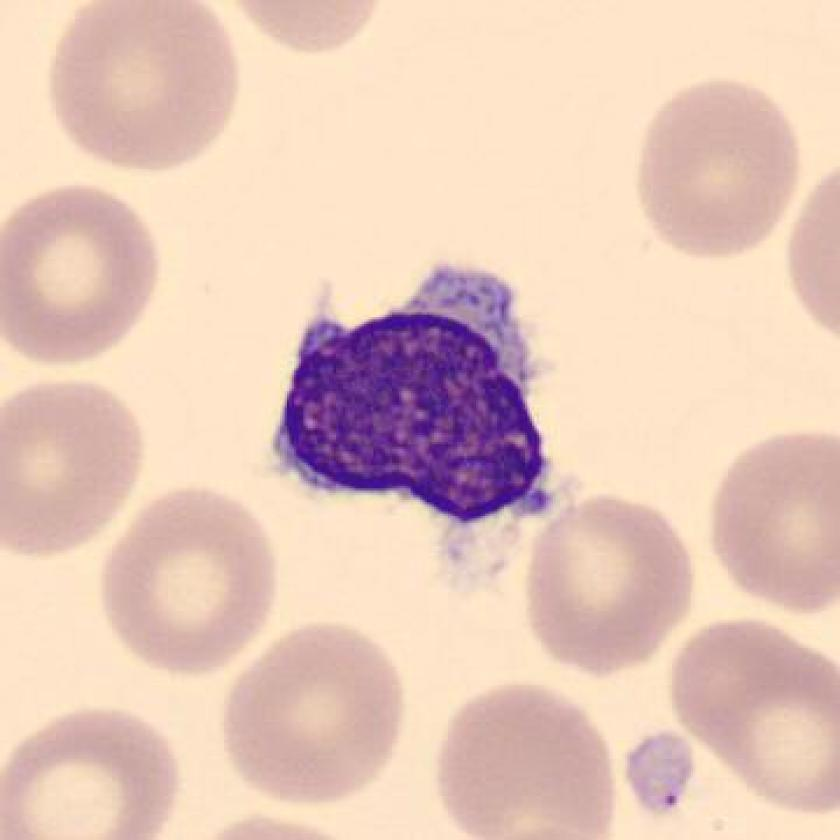lymphocyte: (253, 249, 577, 596)
platelets: (616, 726, 701, 828)
